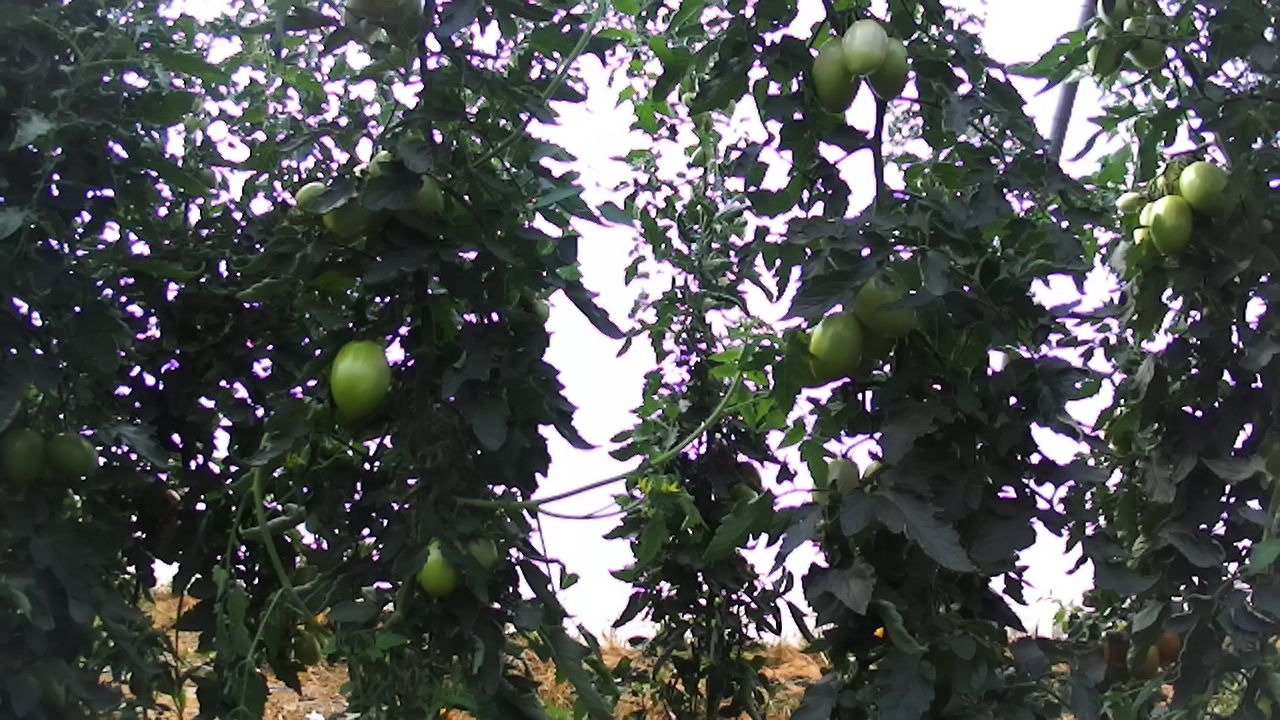tomato: (845, 259, 921, 340), (802, 305, 876, 385), (327, 337, 394, 422), (410, 528, 470, 605), (807, 39, 863, 113), (0, 423, 50, 491), (838, 16, 891, 80), (1146, 193, 1194, 260), (864, 34, 909, 103), (1177, 159, 1229, 218), (43, 428, 100, 478)
